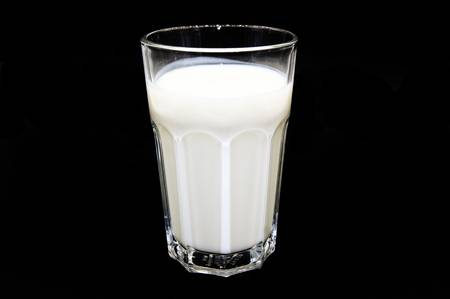glass of milk: (137, 16, 300, 281)
